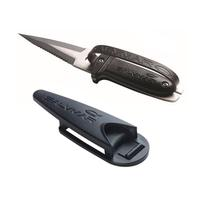knife: (14, 28, 184, 98)
